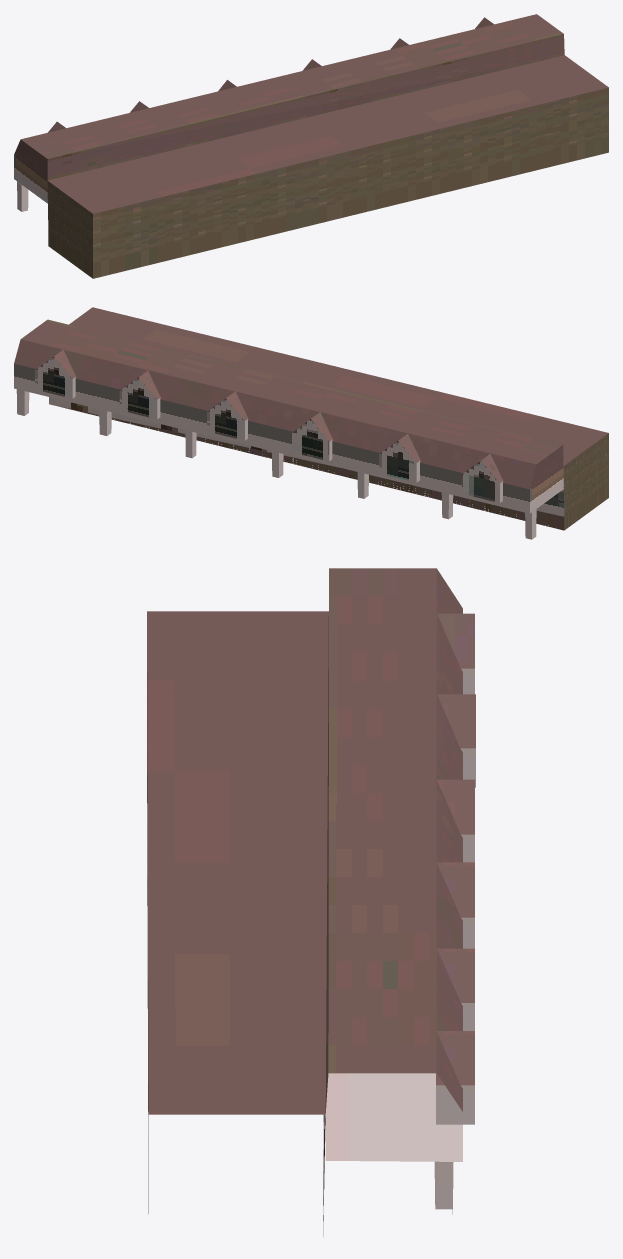
The model's file is lodp09_lvs.obj.
The picture shows the model from 3 angles, top to bottom: view 1: azimuth 30°, elevation 25°; view 2: azimuth 150°, elevation 25°; view 3: azimuth 270°, elevation 25°; orthographic projection. The views are drawn at different scales.
Visible parts, largest first — view 1: lodp09_lvs; view 2: lodp09_lvs; view 3: lodp09_lvs.
Part boxes in pixels (box(x1,y1,x2,y2)): lodp09_lvs: box(14, 14, 608, 278); lodp09_lvs: box(14, 307, 608, 539); lodp09_lvs: box(147, 568, 475, 1236).
Bounding box in the file's own units: 59.93 × 9.59 × 16.55.
Materials: 1 (1 with a texture image).
